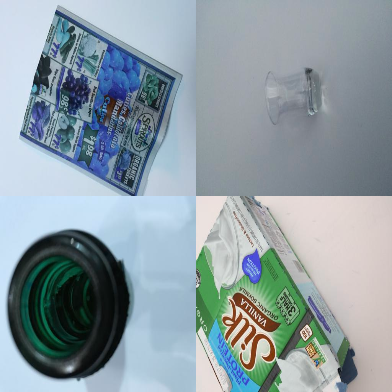cardboard: (196, 196, 358, 390)
glass: (6, 230, 135, 379), (266, 68, 322, 126)
paper: (17, 5, 183, 197)
